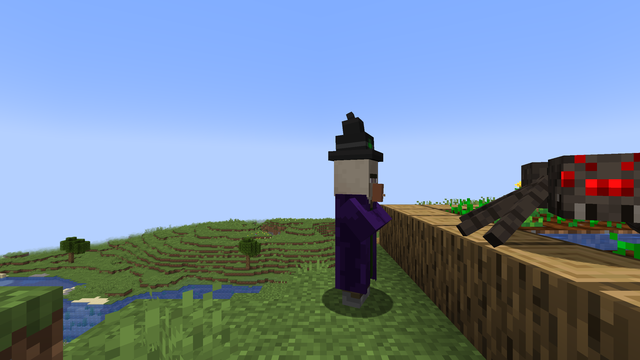araignees: (464, 140, 626, 268)
sorcieres: (333, 153, 383, 309)
